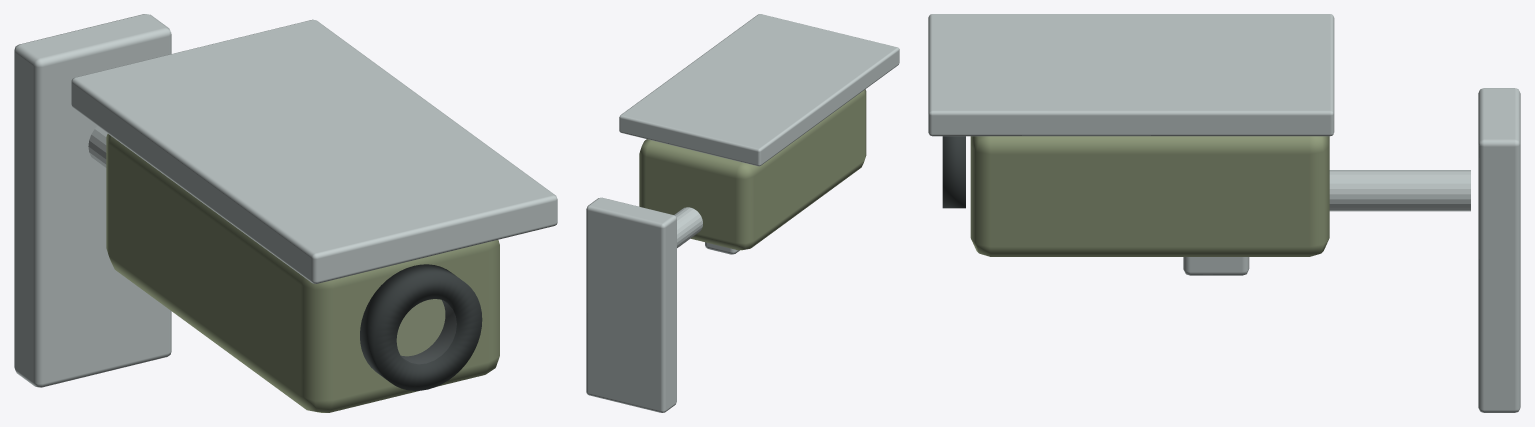
The model's file is mountain-border-checkpoint-mountain-border-checkpoint--cfa7e774__30322.glb.
3 renders of one model, left to right at view 1: azimuth 30°, elevation 25°; view 2: azimuth 150°, elevation 25°; view 3: azimuth 270°, elevation 25°, orthographic. The views are drawn at different scales.
Parts seen in each view (by area): view 1: mountain-border-checkpoint-security-camera-bracket; view 2: mountain-border-checkpoint-security-camera-bracket; view 3: mountain-border-checkpoint-security-camera-bracket.
Part boxes in pixels (bbox=[...]): mountain-border-checkpoint-security-camera-bracket: bbox=[14, 14, 557, 412]; mountain-border-checkpoint-security-camera-bracket: bbox=[586, 14, 899, 412]; mountain-border-checkpoint-security-camera-bracket: bbox=[928, 14, 1520, 412].
Size of the model in its own units: 0.25 by 0.38 by 0.6275.
